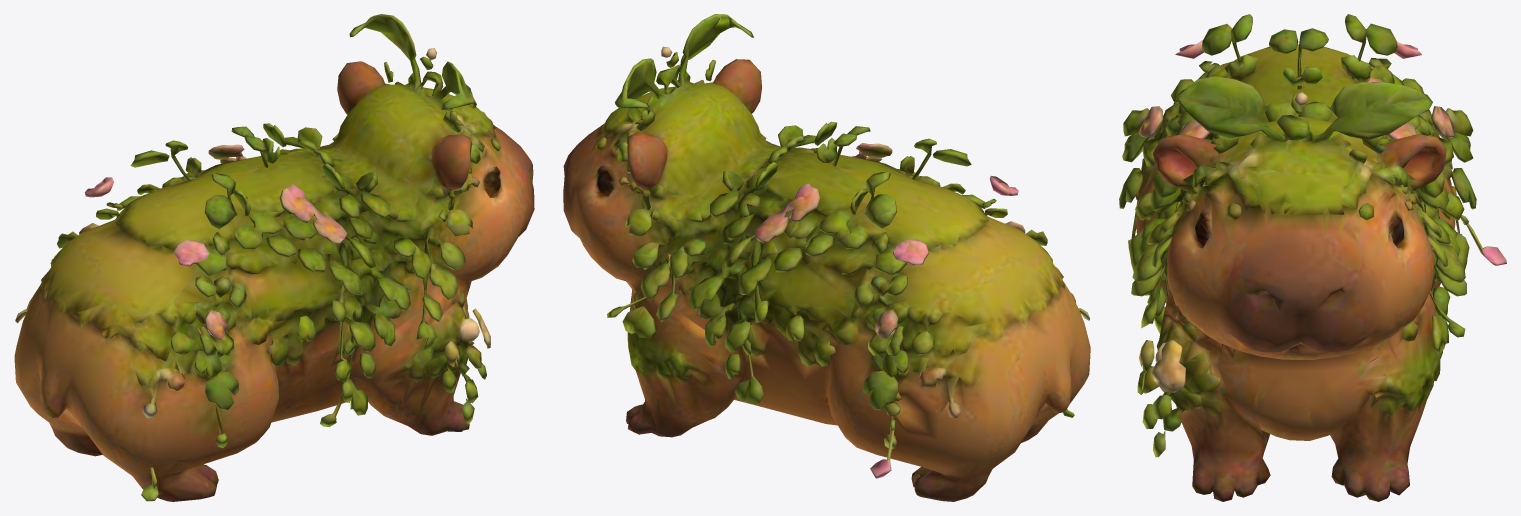
Rendered from oso_v1.glb.
3 renders of one model, left to right at view 1: azimuth 30°, elevation 25°; view 2: azimuth 150°, elevation 25°; view 3: azimuth 270°, elevation 25°, orthographic. The views are drawn at different scales.
Parts seen in each view (by area): view 1: tripo_node_146acc09-34a7-4c05-a1c8-bea15d0c8970; view 2: tripo_node_146acc09-34a7-4c05-a1c8-bea15d0c8970; view 3: tripo_node_146acc09-34a7-4c05-a1c8-bea15d0c8970.
Boxes of the visible parts, <box> form: tripo_node_146acc09-34a7-4c05-a1c8-bea15d0c8970: <box>14,14,534,501</box>; tripo_node_146acc09-34a7-4c05-a1c8-bea15d0c8970: <box>563,14,1090,501</box>; tripo_node_146acc09-34a7-4c05-a1c8-bea15d0c8970: <box>1119,14,1506,501</box>.
Bounding box in the file's own units: 0.9781 × 0.691 × 0.5815.
Materials: 1 (1 with a texture image).
